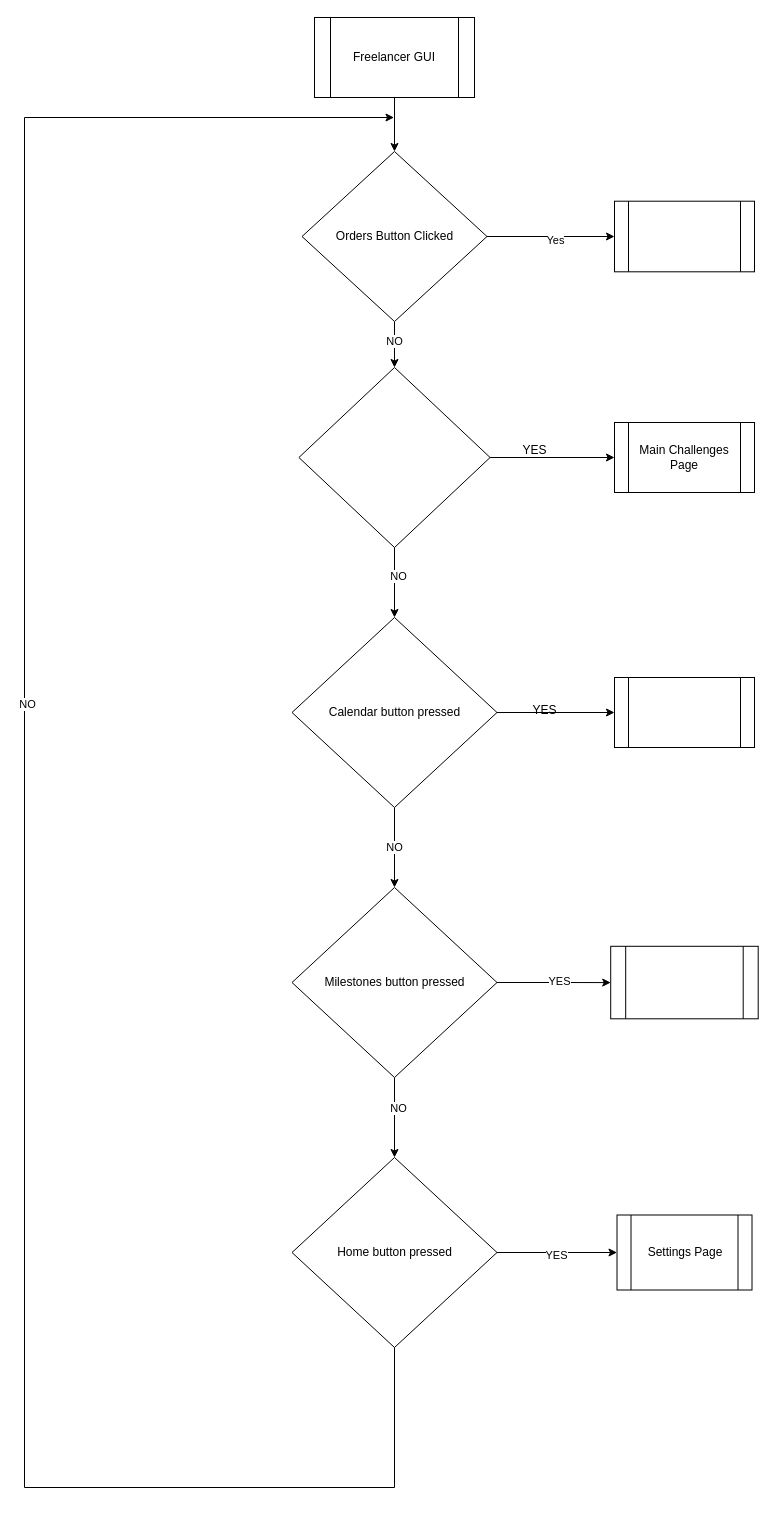
The diagram is 776 pixels wide and 1513 high, and some of its shapes have lost their labels. The shapes that lost their labels are listed below. From the top down, each one's centre as x and y in pixels, then its label:
At point 684,236: "Main Orders Page".
At point 394,457: "Challenges Button Clicked".
At point 684,712: "Calendar Page".
At point 684,982: "Milestones Page".
